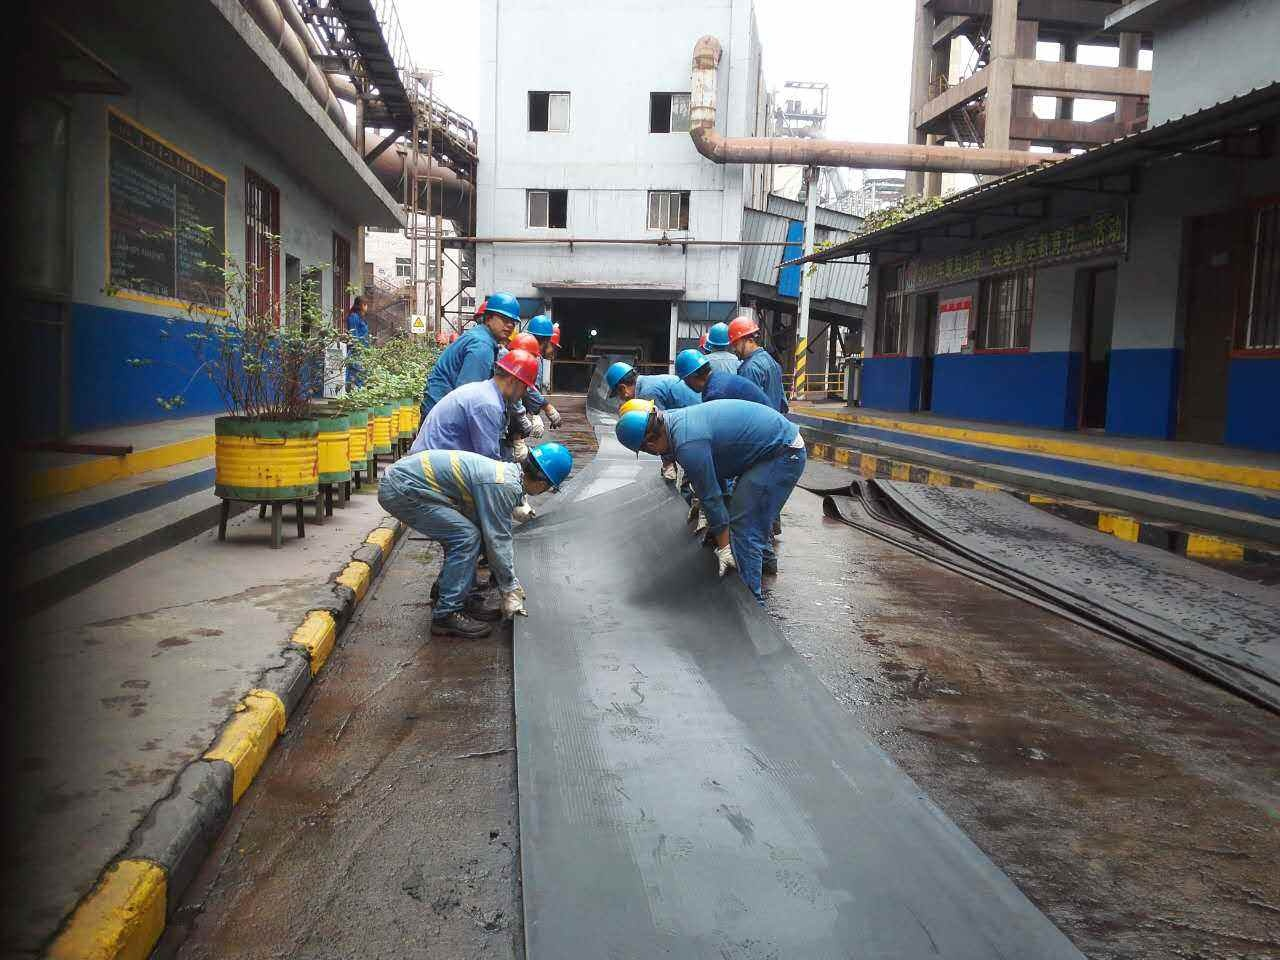blue: (521, 439, 571, 500), (617, 406, 665, 457), (482, 290, 520, 340), (671, 346, 711, 392), (604, 358, 640, 400), (525, 309, 554, 349)
red: (497, 349, 538, 400), (728, 314, 761, 354)
